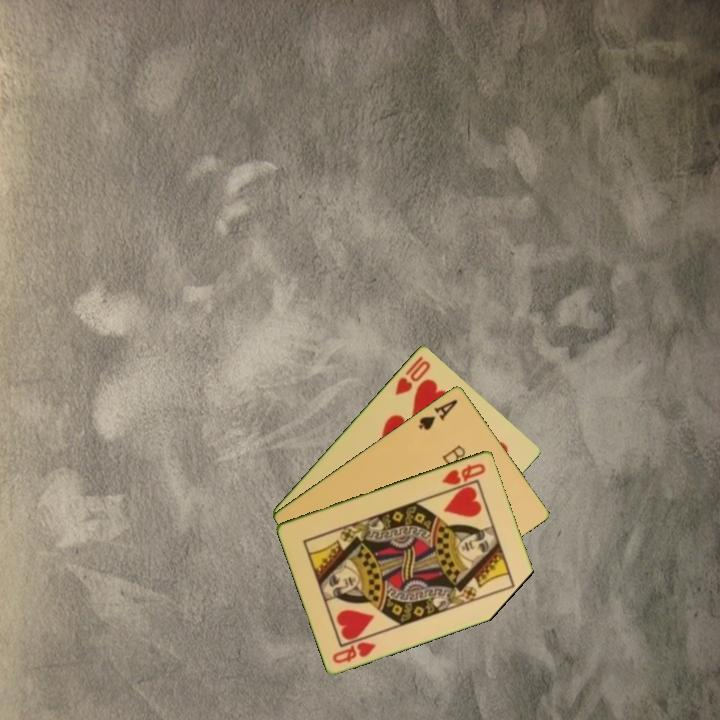10h: (391, 352, 433, 398)
As: (415, 395, 461, 433)
Qh: (439, 459, 489, 488), (329, 638, 379, 666)
